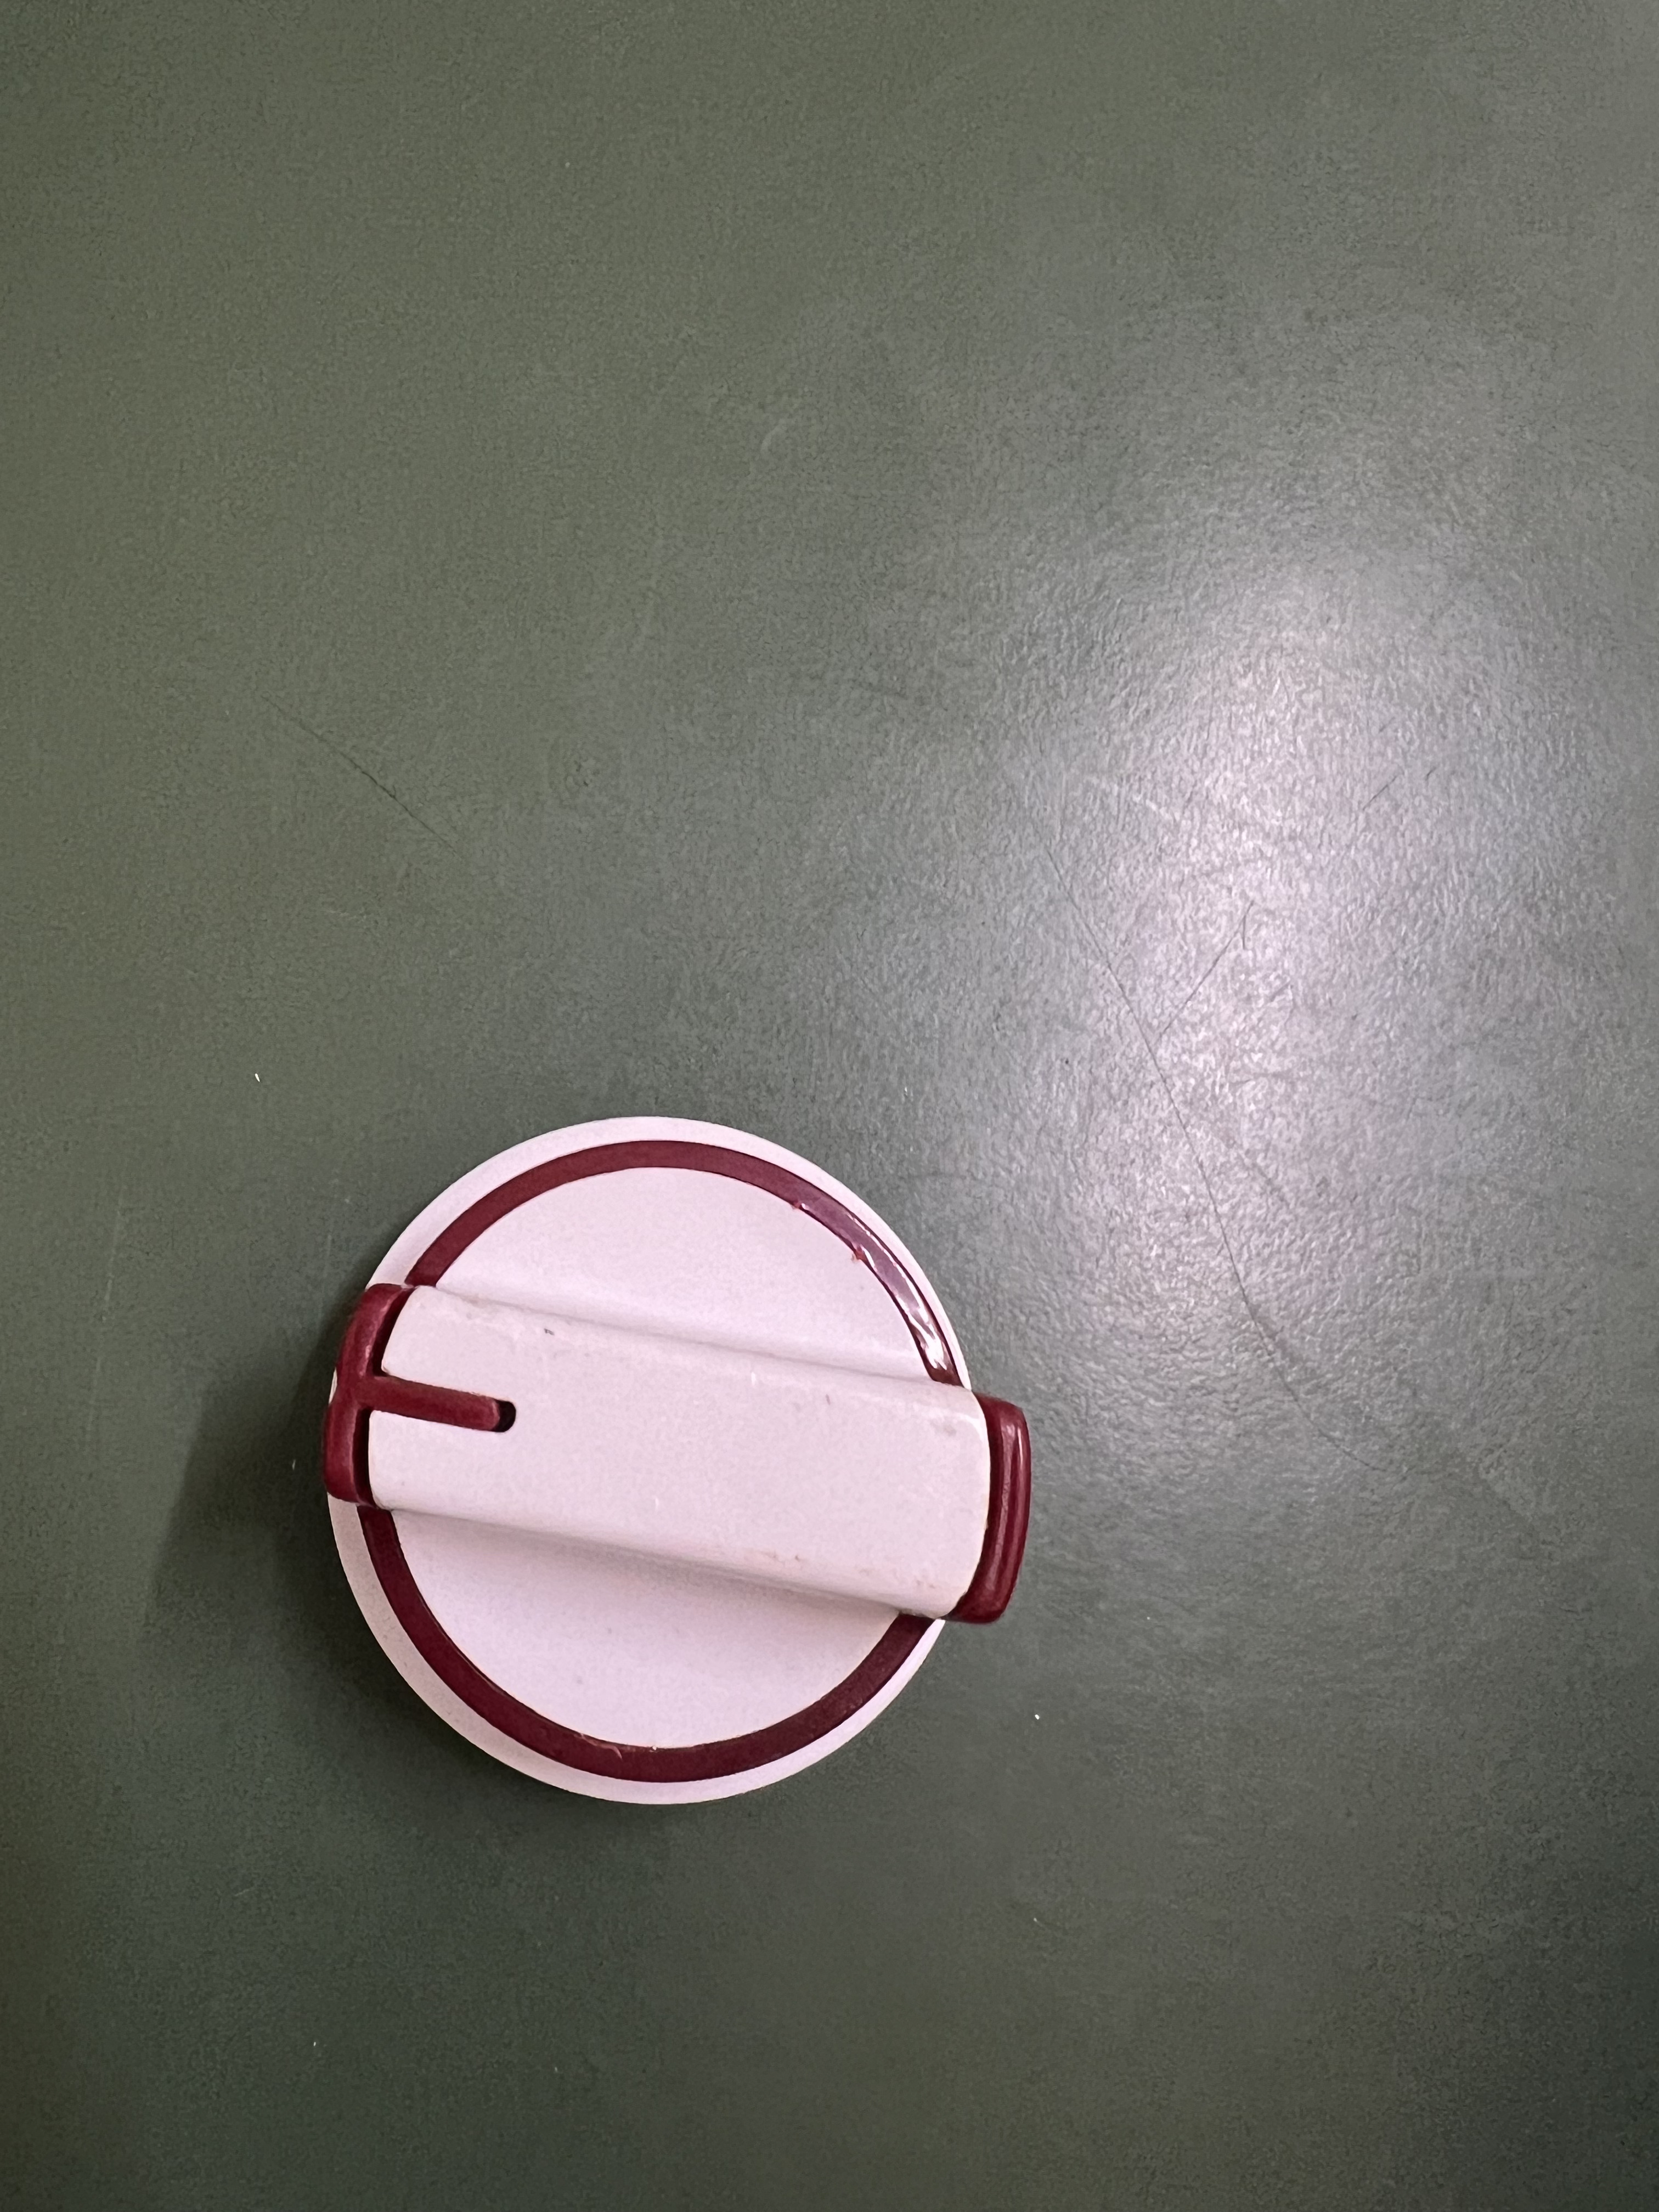regulator: (268, 1097, 1042, 1838)
